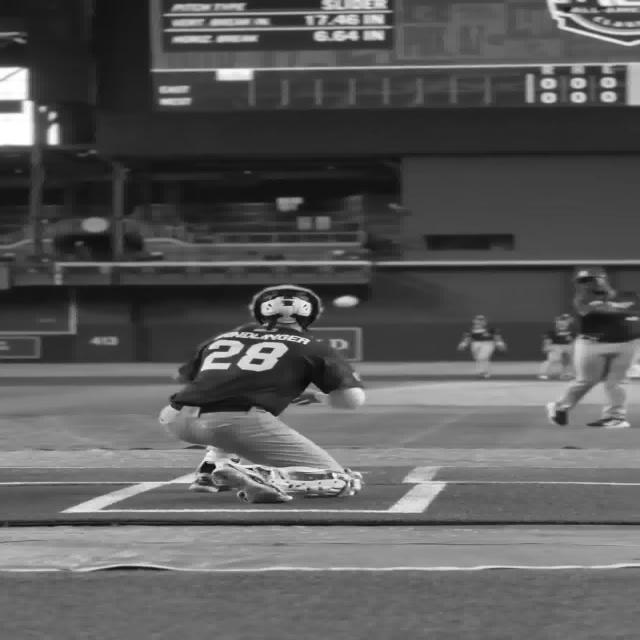baseball: (333, 295, 359, 308)
shoe: (212, 461, 292, 503), (188, 472, 230, 492), (545, 402, 570, 426), (585, 418, 630, 428)
